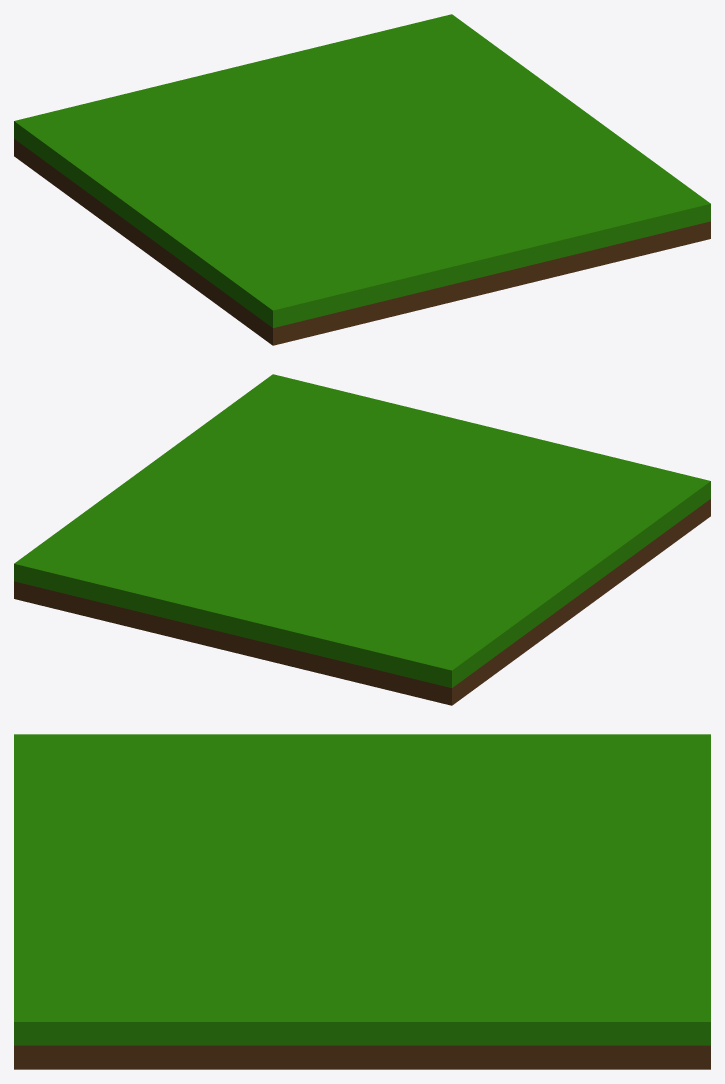
The model's file is Ground.fbx.
3 renders of one model, top to bottom at view 1: azimuth 30°, elevation 25°; view 2: azimuth 150°, elevation 25°; view 3: azimuth 270°, elevation 25°, orthographic. The views are drawn at different scales.
Visible parts, largest first — view 1: Ground; view 2: Ground; view 3: Ground.
Part boxes in pixels (x1,y1,x2,y2): Ground: (14, 14, 710, 345); Ground: (14, 374, 710, 705); Ground: (14, 734, 710, 1069).
Size of the model in its own units: 26030 by 2000 by 26658.
